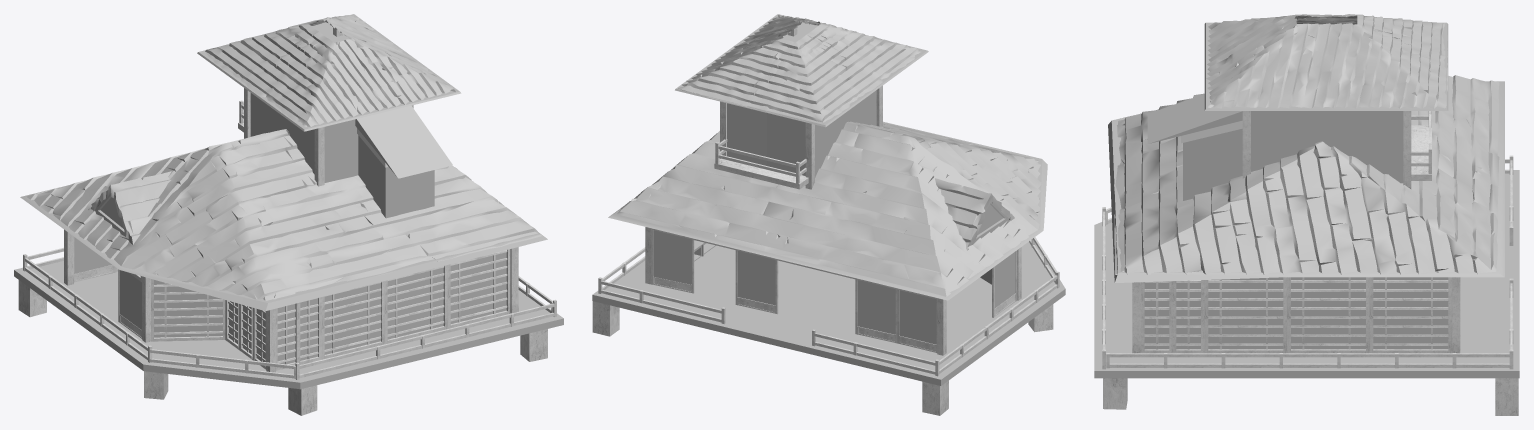
The model's file is spawn_house.fbx.
The picture shows the model from 3 angles, left to right: view 1: azimuth 30°, elevation 25°; view 2: azimuth 150°, elevation 25°; view 3: azimuth 270°, elevation 25°; orthographic projection. The views are drawn at different scales.
Parts seen in each view (by area): view 1: mesh_211, mesh_218, mesh_190, mesh_232, mesh_250, mesh_219, mesh_238, mesh_213, mesh_214, mesh_237, mesh_251, mesh_208 (+16 smaller); view 2: mesh_211, mesh_190, mesh_218, mesh_250, mesh_229, mesh_230, mesh_228, mesh_227, mesh_222, mesh_223, mesh_251, mesh_213 (+12 smaller); view 3: mesh_211, mesh_218, mesh_235, mesh_190, mesh_213, mesh_250, mesh_236, mesh_210, mesh_214, mesh_219, mesh_251, mesh_215 (+7 smaller).
Part boxes in pixels (<box>): mesh_211: <box>26,129,541,300</box>; mesh_218: <box>200,15,456,126</box>; mesh_190: <box>14,261,563,389</box>; mesh_232: <box>322,249,510,359</box>; mesh_250: <box>20,187,547,311</box>; mesh_219: <box>355,105,452,178</box>; mesh_238: <box>151,279,225,341</box>; mesh_213: <box>250,93,358,182</box>; mesh_214: <box>358,135,434,218</box>; mesh_237: <box>225,300,266,369</box>; mesh_251: <box>197,14,461,131</box>; mesh_208: <box>335,313,513,369</box>; mesh_211: <box>616,121,1041,296</box>; mesh_190: <box>592,241,1065,385</box>; mesh_218: <box>678,14,921,124</box>; mesh_250: <box>608,121,1047,300</box>; mesh_229: <box>735,250,778,314</box>; mesh_230: <box>651,230,694,293</box>; mesh_228: <box>855,279,897,343</box>; mesh_227: <box>897,289,937,352</box>; mesh_222: <box>727,103,766,165</box>; mesh_223: <box>766,113,805,175</box>; mesh_251: <box>675,14,928,127</box>; mesh_213: <box>815,90,876,177</box>; mesh_211: <box>1114,75,1499,274</box>; mesh_218: <box>1206,14,1447,108</box>; mesh_235: <box>1204,277,1452,353</box>; mesh_190: <box>1094,170,1519,378</box>; mesh_213: <box>1251,111,1403,183</box>; mesh_250: <box>1108,81,1504,282</box>; mesh_236: <box>1141,280,1204,353</box>; mesh_210: <box>1106,353,1509,368</box>; mesh_214: <box>1183,128,1242,200</box>; mesh_219: <box>1147,94,1242,143</box>; mesh_251: <box>1204,22,1448,110</box>; mesh_215: <box>1411,125,1431,180</box>.
Bounding box in the file's own units: 816 × 612 × 728.
